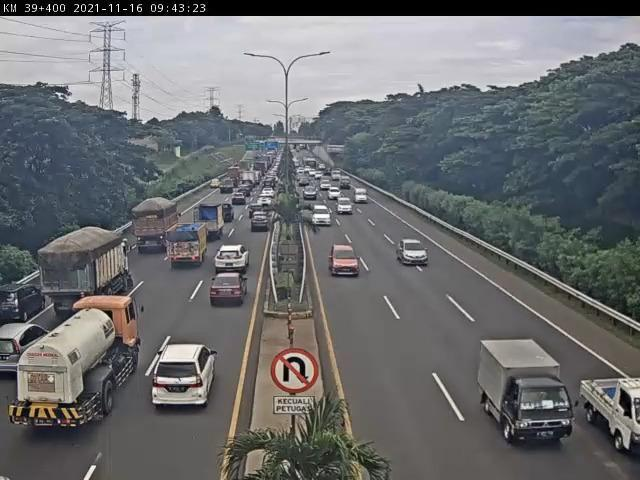car: (577, 372, 640, 464), (153, 343, 219, 411), (1, 317, 53, 379), (4, 278, 58, 324), (208, 241, 254, 283), (209, 272, 250, 308), (330, 243, 361, 280), (397, 239, 429, 269), (246, 208, 276, 238), (309, 204, 333, 227), (247, 201, 268, 221), (336, 196, 355, 218), (219, 203, 235, 227), (230, 190, 249, 209), (352, 190, 371, 209), (255, 197, 273, 213), (209, 176, 225, 191)
truck: (8, 295, 147, 431), (471, 335, 580, 447), (40, 227, 134, 323), (132, 199, 184, 256), (168, 222, 211, 268), (195, 205, 225, 239)
